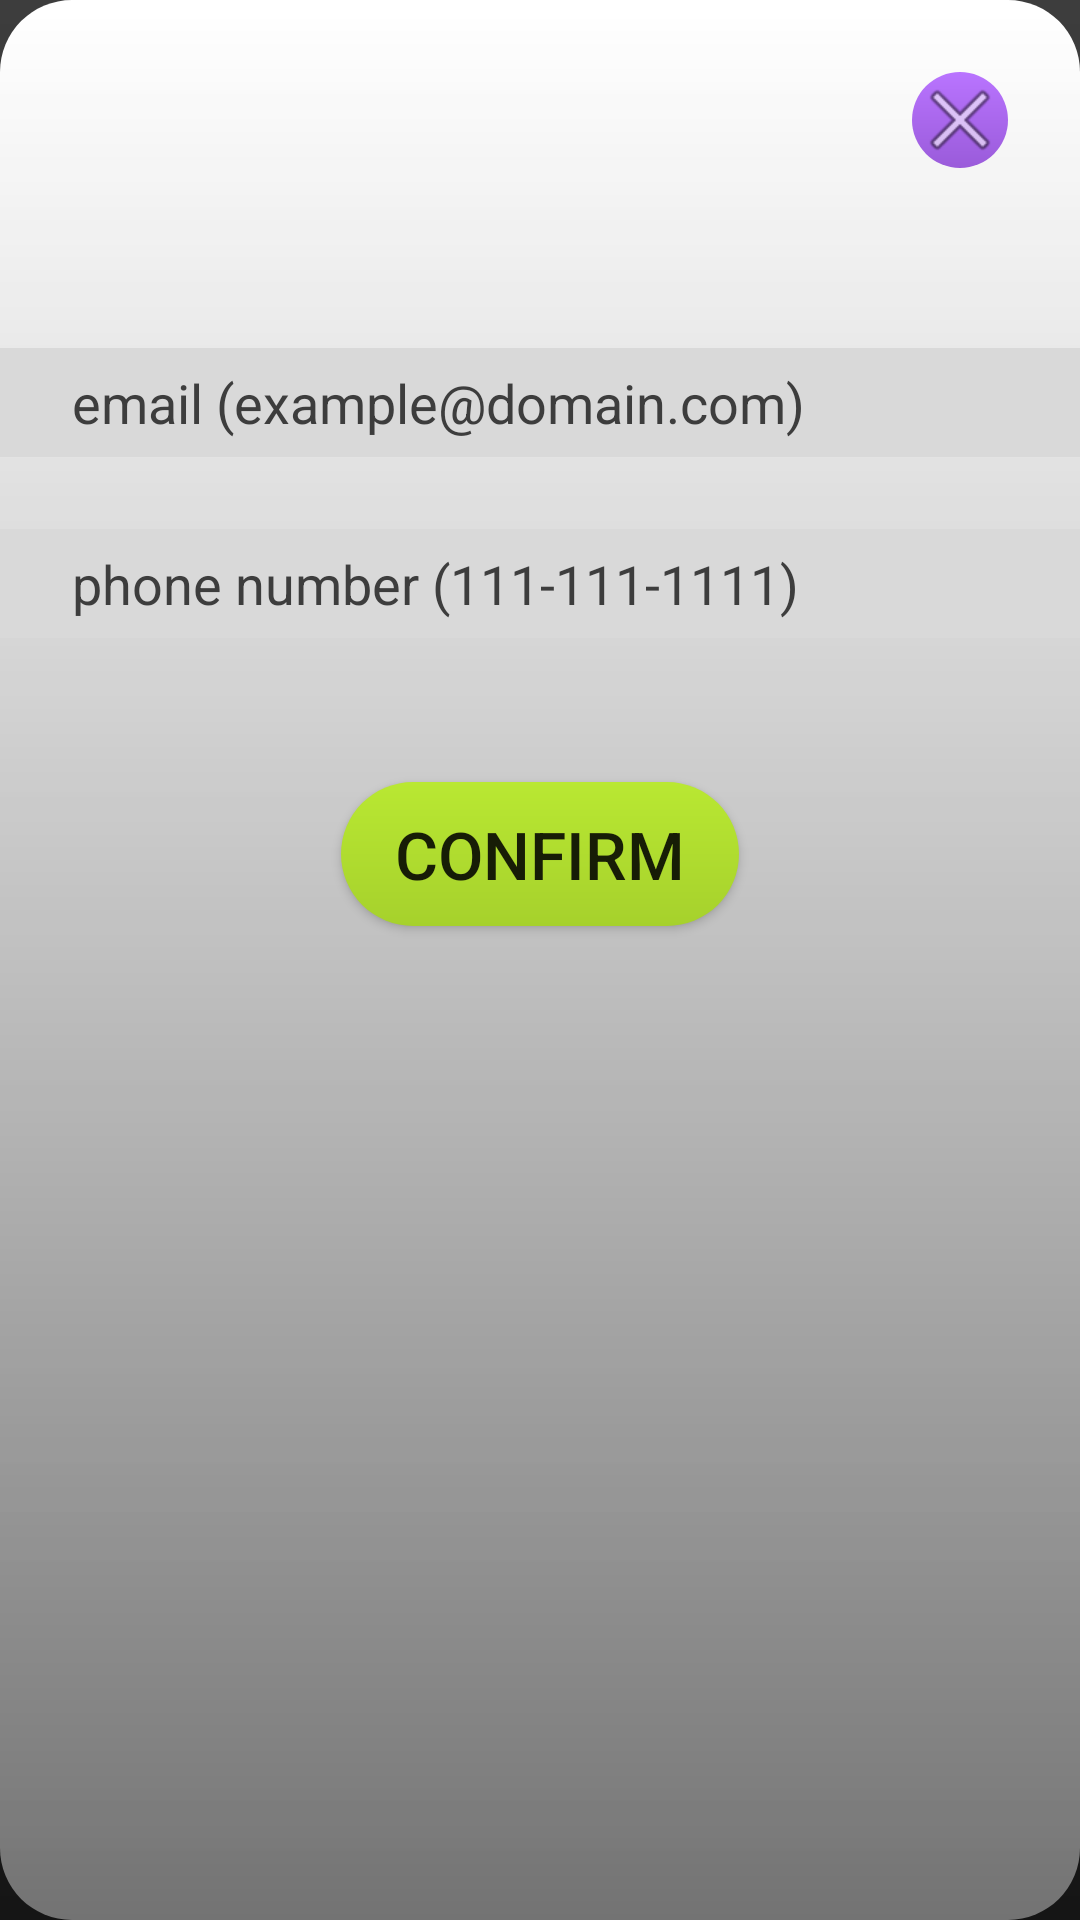

Icons on this 1080*1920 Android screen, each with its box as (x1=x1, y1=y1, x2=x2, y2=y2):
close clear cancel: (x1=912, y1=72, x2=1008, y2=168)
